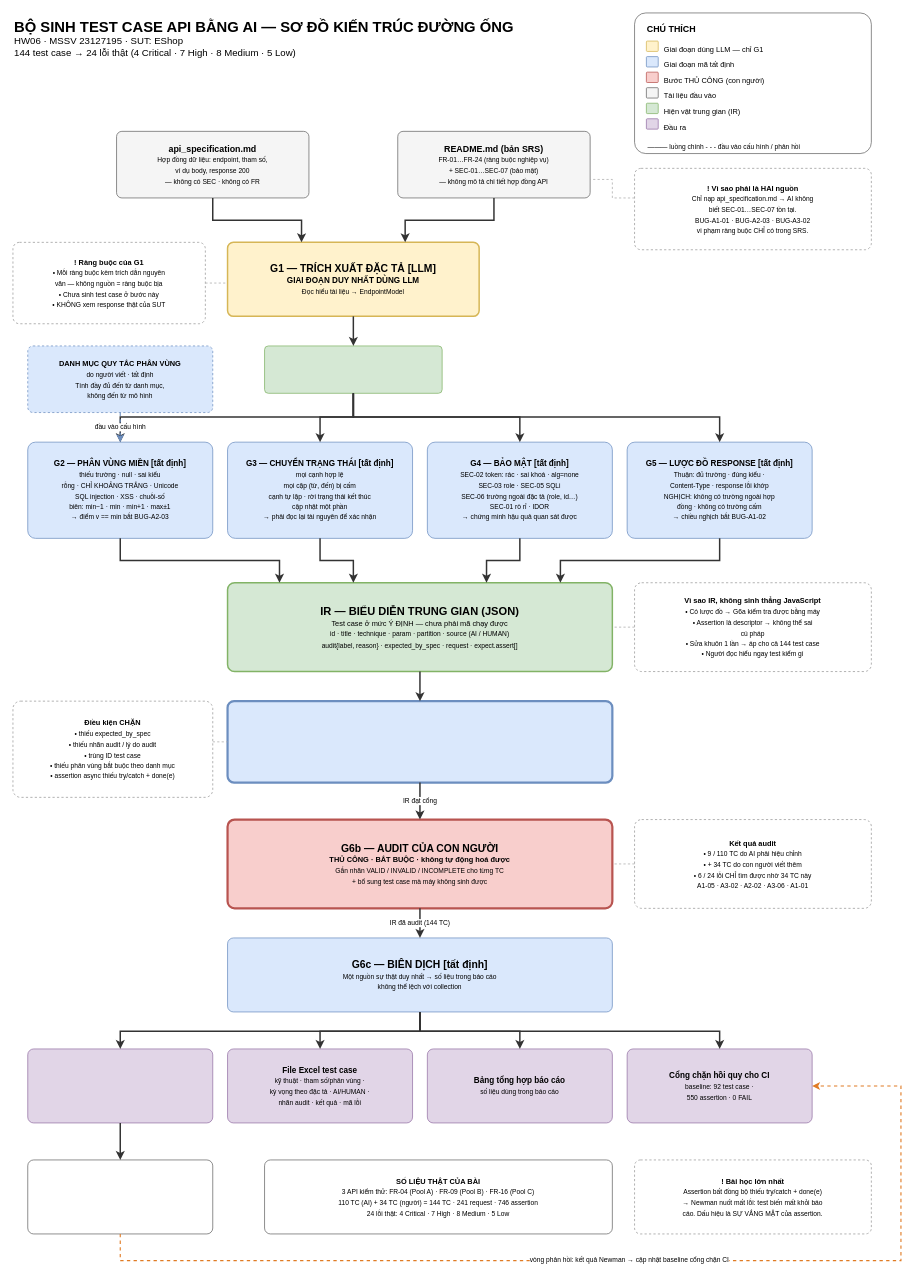
The diagram is 921 pixels wide and 1280 high, and some of its shapes have lost their labels. Each missing label, with the box of its shape:
> Newman run 241 request · 746 assertion 92 PASS / 52 FAIL: (27, 1159, 213, 1234)
EndpointModel (JSON) tham số · máy trạng thái · lược đồ response · SEC áp dụng: (264, 345, 442, 393)
G6a — KIỂM TRA IR [tất định] [ CỔNG CHẶN ] Không đạt → KHÔNG được đi tiếp: (226, 700, 613, 783)
Postman Collection v2.1 chạy được bằng Newman: (27, 1048, 213, 1123)
